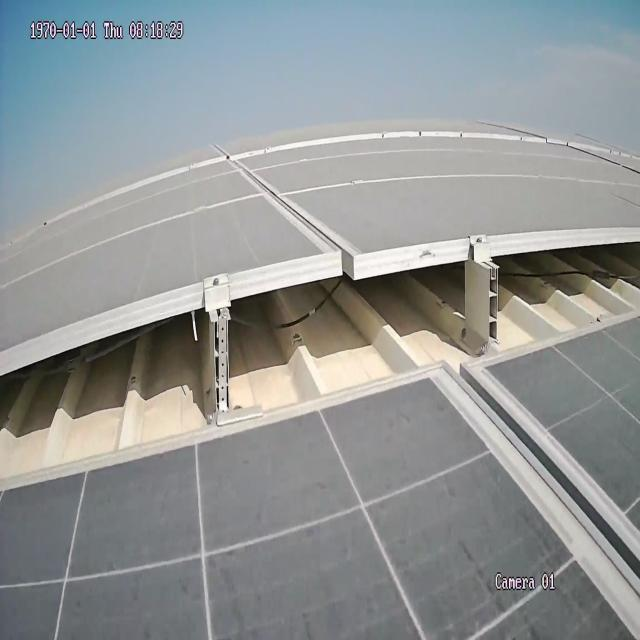interior panel: (432, 372, 640, 640), (223, 163, 357, 251)
outher panel: (3, 222, 639, 494)
